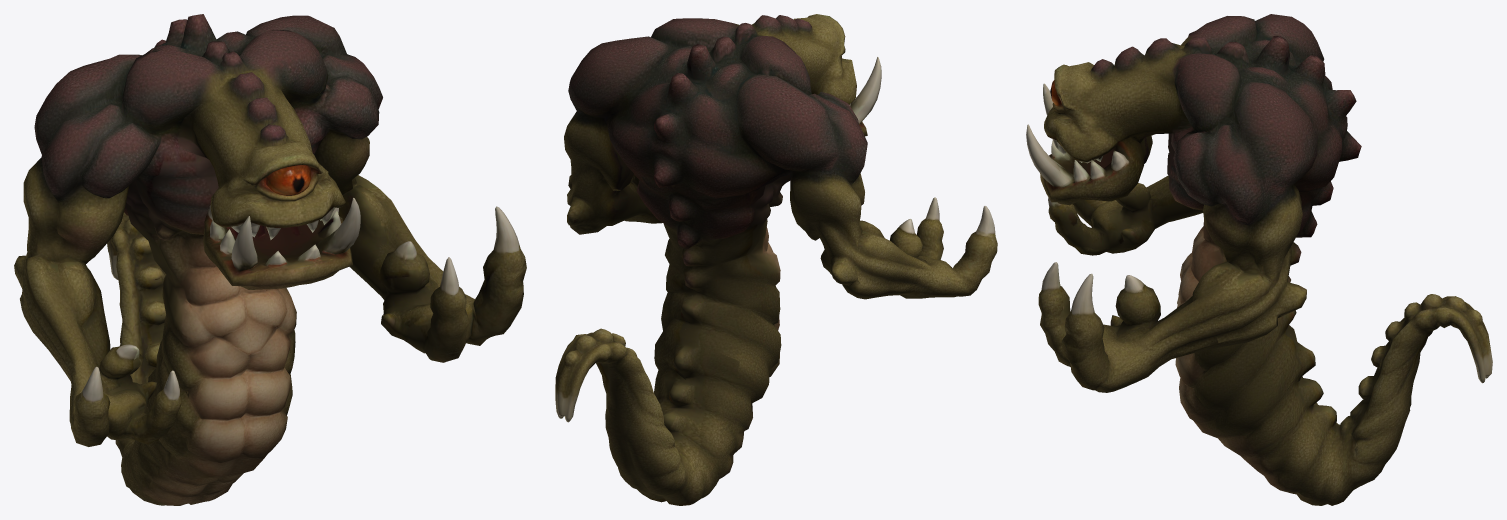
The model's file is cyclops.glb.
3 renders of one model, left to right at view 1: azimuth 30°, elevation 25°; view 2: azimuth 150°, elevation 25°; view 3: azimuth 270°, elevation 25°, orthographic. The views are drawn at different scales.
Parts seen in each view (by area): view 1: tripo_node_47e9a7df-3ea6-4ba1-a219-c2253fb25087; view 2: tripo_node_47e9a7df-3ea6-4ba1-a219-c2253fb25087; view 3: tripo_node_47e9a7df-3ea6-4ba1-a219-c2253fb25087.
Boxes of the visible parts, x1=… form: tripo_node_47e9a7df-3ea6-4ba1-a219-c2253fb25087: x1=14, y1=14, x2=526, y2=505; tripo_node_47e9a7df-3ea6-4ba1-a219-c2253fb25087: x1=555, y1=14, x2=997, y2=505; tripo_node_47e9a7df-3ea6-4ba1-a219-c2253fb25087: x1=1026, y1=14, x2=1492, y2=505.
Bounding box in the file's own units: 0.9341 × 0.9995 × 0.9263.
1 material, 1 textured.
